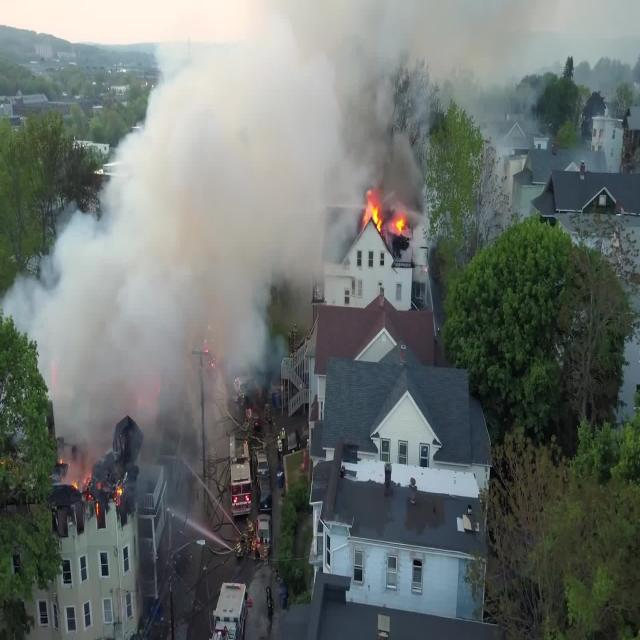Fire: (362, 190, 410, 236)
Smoke: (0, 0, 424, 486)
